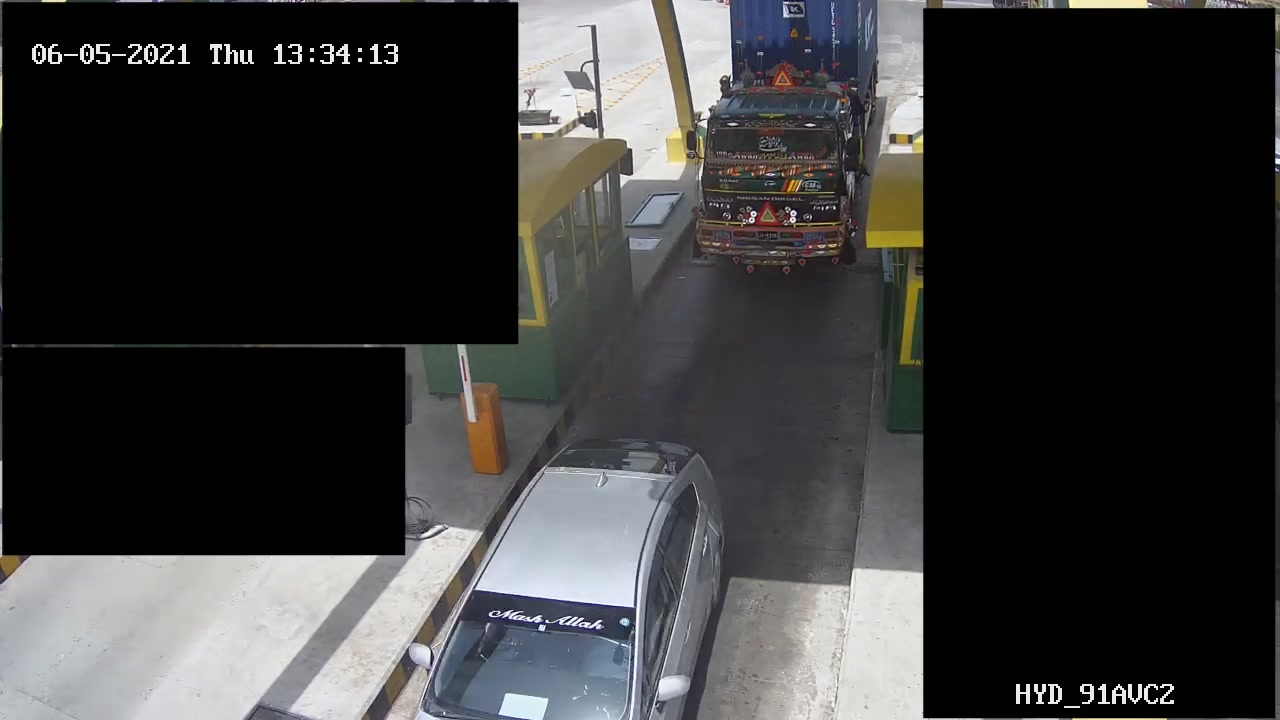F6: (694, 1, 886, 280)
